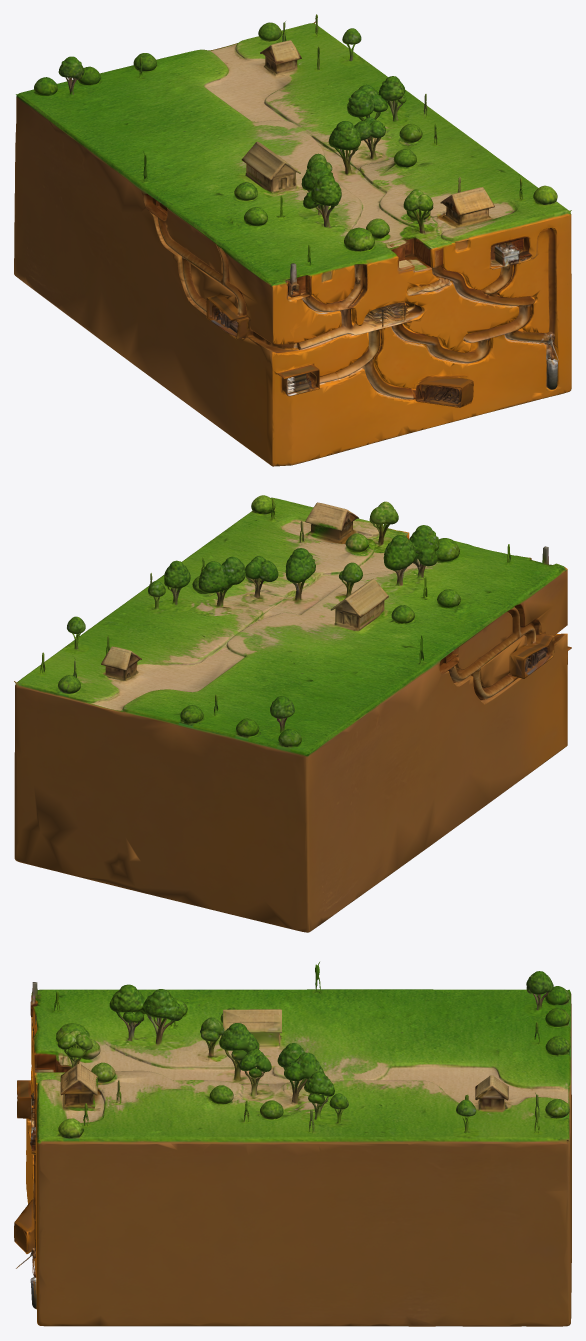
The model's file is diadaocuchi-v1.glb.
3 renders of one model, top to bottom at view 1: azimuth 30°, elevation 25°; view 2: azimuth 150°, elevation 25°; view 3: azimuth 270°, elevation 25°, orthographic. The views are drawn at different scales.
Parts seen in each view (by area): view 1: node_0; view 2: node_0; view 3: node_0.
Part boxes in pixels (x1,y1,x2,y2): node_0: (14,14,571,466); node_0: (14,495,571,932); node_0: (14,962,571,1326).
Bounding box in the file's own units: 0.6286 × 0.446 × 0.9388.
1 material, 1 textured.
